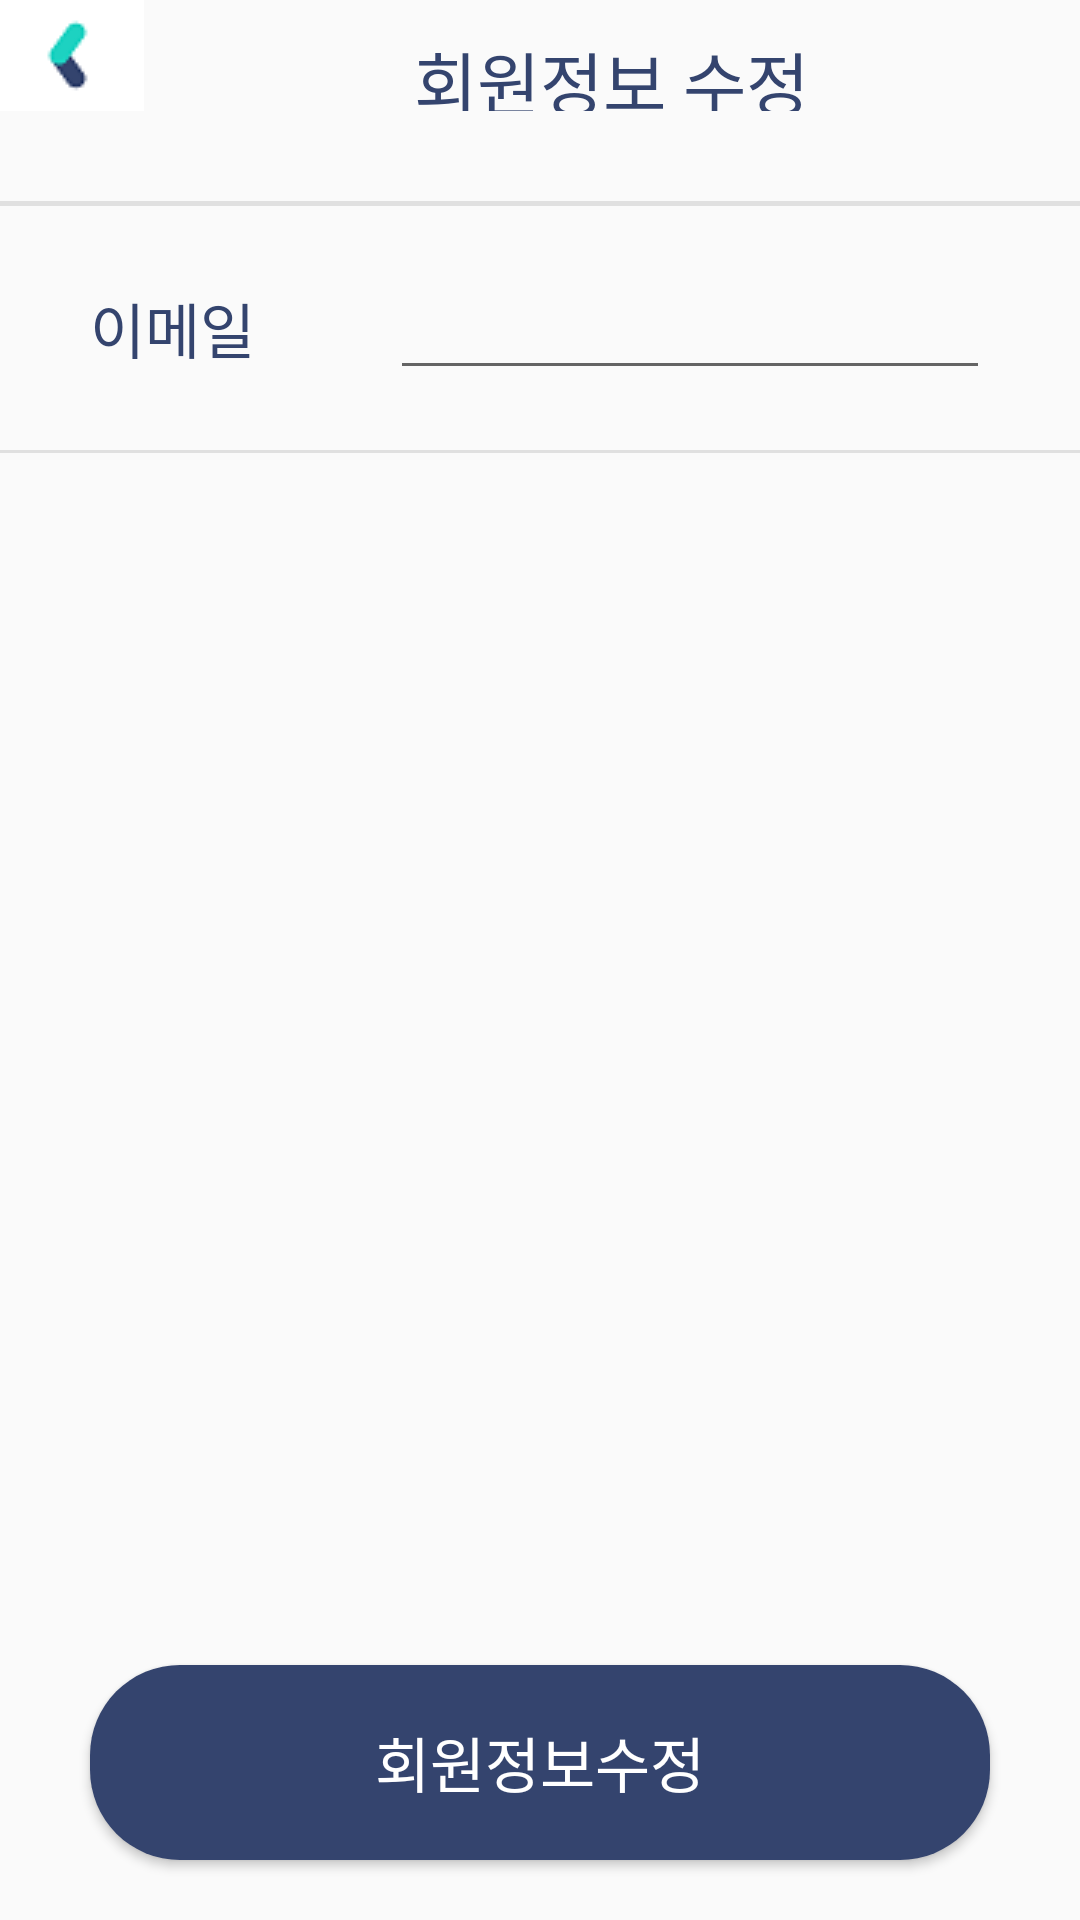

Where icons sit on this 1080x1920 app screen, as Rect(x1, y1, x2, y2):
left: Rect(47, 21, 88, 90)
